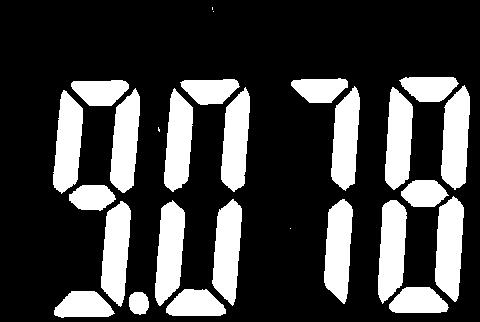0: (155, 82, 253, 313)
7: (286, 78, 361, 307)
8: (375, 80, 470, 313)
9: (49, 78, 142, 318)
dot: (128, 293, 151, 316)
